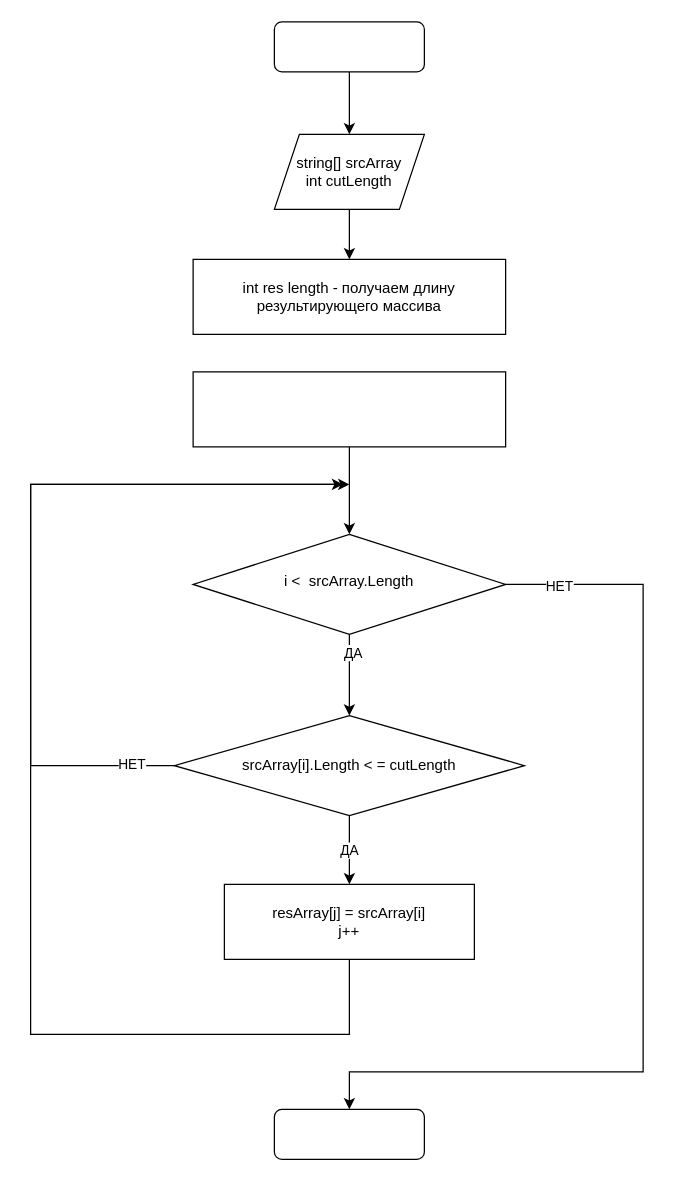
Some shapes in this 675 by 1181 pixel diagram are drawn without their labels. The centre of each missing label's shape, as x and y in pixels:
int i = 0 int j = 0 string[] resArray = new string[resLength]: (x=349, y=409)
КОНЕЦ: (x=348, y=1133)
НАЧАЛО: (x=348, y=46)
